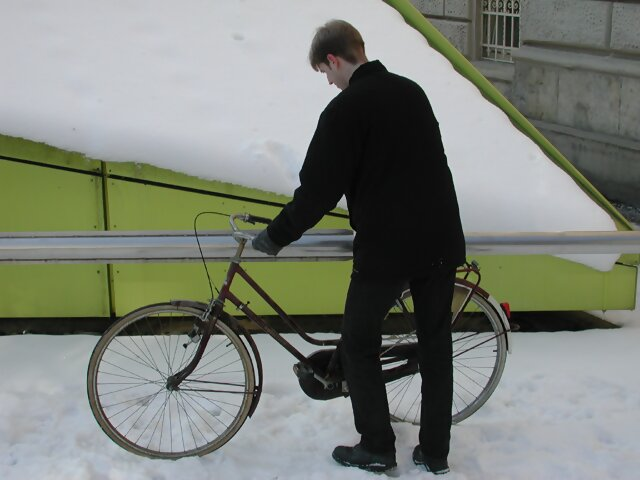person: (247, 15, 470, 478)
